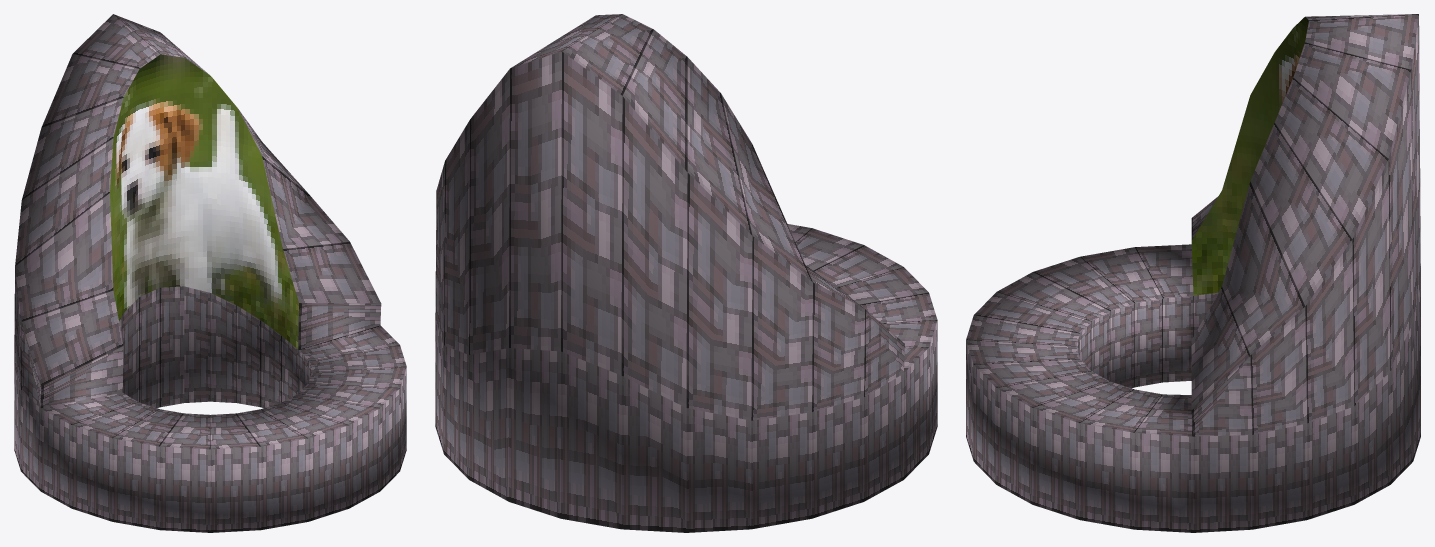
The model's file is ringinner.glb.
The picture shows the model from 3 angles, left to right: view 1: azimuth 30°, elevation 25°; view 2: azimuth 150°, elevation 25°; view 3: azimuth 270°, elevation 25°; orthographic projection. The views are drawn at different scales.
Parts seen in each view (by area): view 1: ring.002; view 2: ring.002; view 3: ring.002.
Boxes of the visible parts, <box> form: ring.002: <box>14,14,406,532</box>; ring.002: <box>435,14,937,532</box>; ring.002: <box>966,14,1420,532</box>.
Bounding box in the file's own units: 19.28 × 19.77 × 19.28.
1 material, 1 textured.
